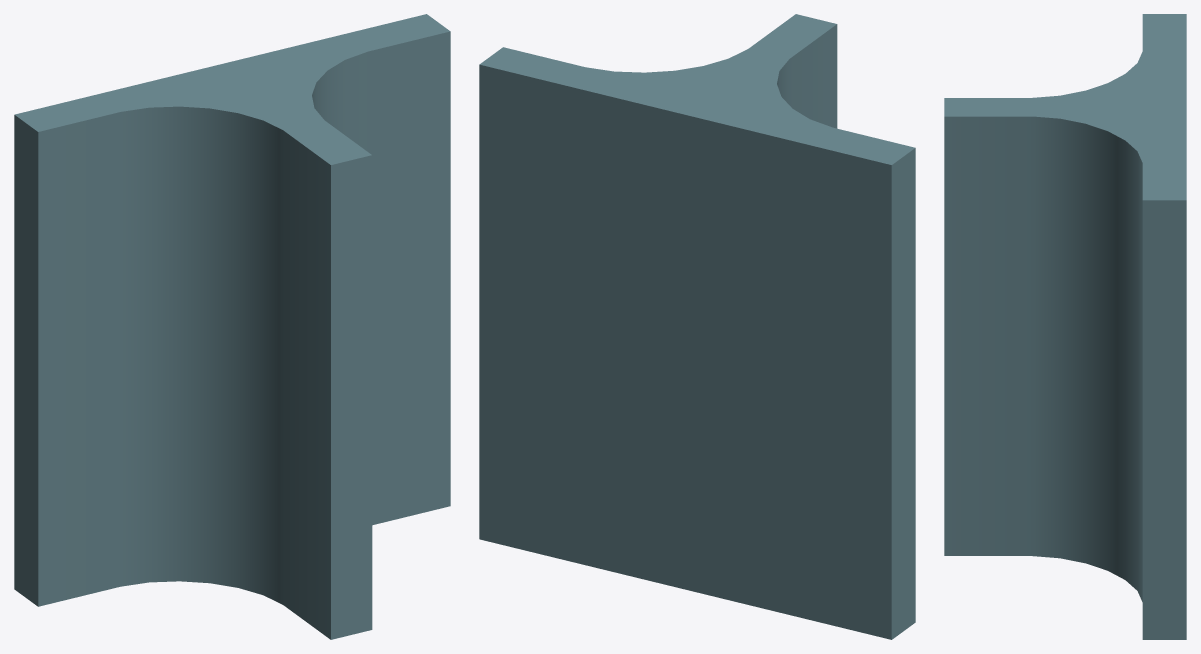
File: W1_WallCorner_Round1C.fbx
The picture shows the model from 3 angles, left to right: view 1: azimuth 30°, elevation 25°; view 2: azimuth 150°, elevation 25°; view 3: azimuth 270°, elevation 25°; orthographic projection. The views are drawn at different scales.
Visible parts, largest first — view 1: W1_WallCorner_Round1C.001; view 2: W1_WallCorner_Round1C.001; view 3: W1_WallCorner_Round1C.001.
Part boxes in pixels (x1,y1,x2,y2): W1_WallCorner_Round1C.001: (14, 14, 450, 639); W1_WallCorner_Round1C.001: (479, 14, 915, 639); W1_WallCorner_Round1C.001: (944, 14, 1186, 639).
Size of the model in its own units: 2 by 2.2 by 1.1.
